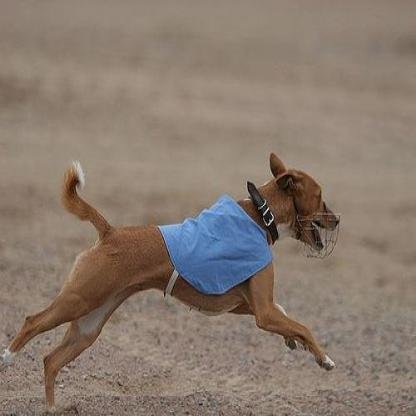basenji: (1, 152, 340, 414)
